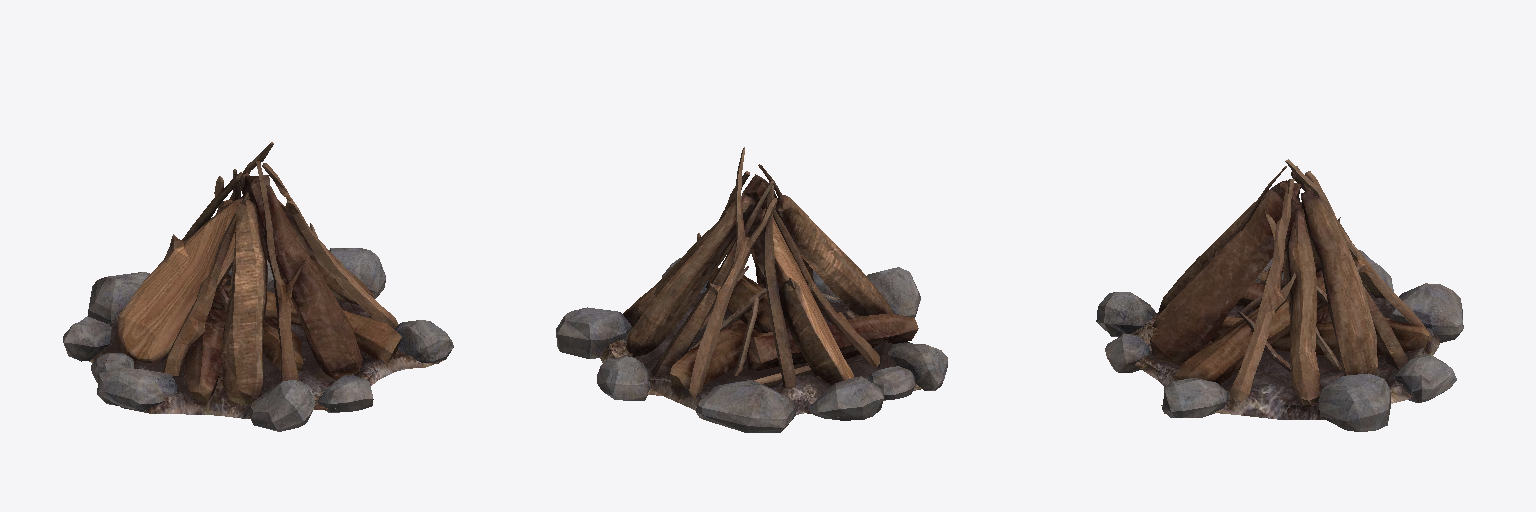
3 renders of one model, left to right at view 1: azimuth 30°, elevation 25°; view 2: azimuth 150°, elevation 25°; view 3: azimuth 270°, elevation 25°, orthographic.
Visible parts, largest first — view 1: Group2126; view 2: Group2126; view 3: Group2126.
Boxes of the visible parts, <box> form: Group2126: <box>63,142,453,431</box>; Group2126: <box>556,147,947,432</box>; Group2126: <box>1096,159,1463,431</box>.
Bounding box in the file's own units: 97.99 × 60.11 × 94.05.
Materials: 1 (1 with a texture image).